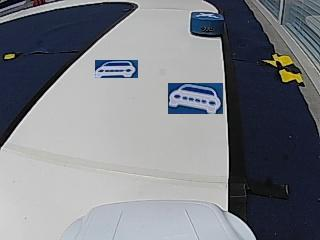prop: (190, 11, 224, 37)
